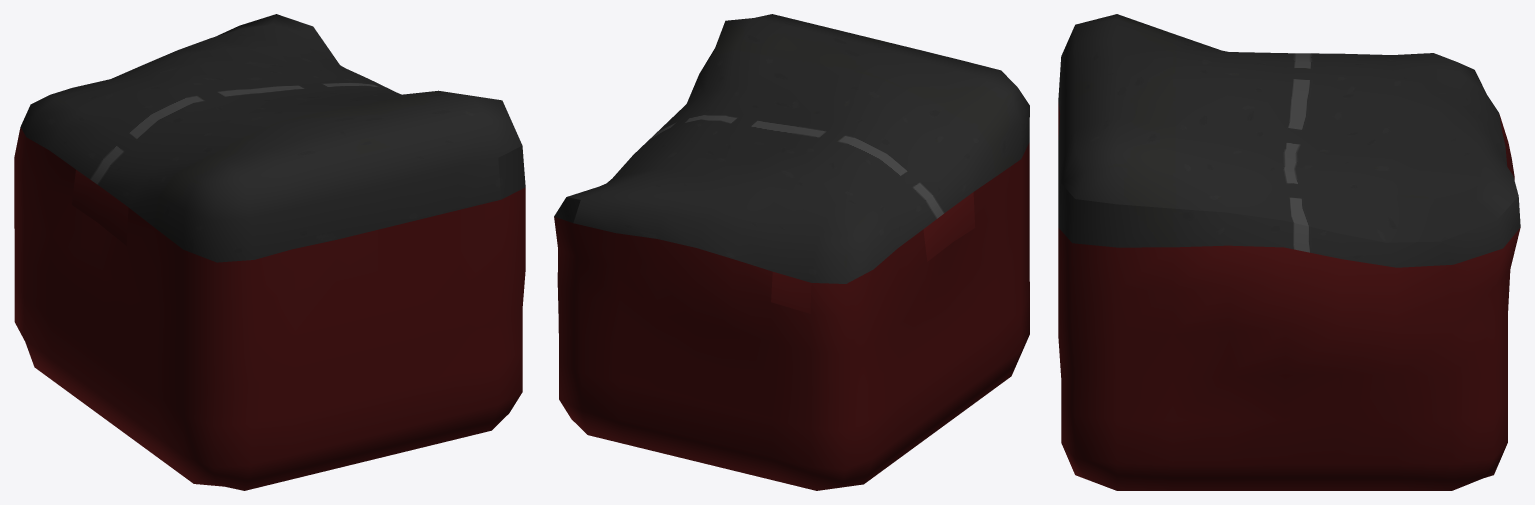
Rendered from RuinedGround_Block_06.fbx.
The picture shows the model from 3 angles, left to right: view 1: azimuth 30°, elevation 25°; view 2: azimuth 150°, elevation 25°; view 3: azimuth 270°, elevation 25°; orthographic projection. The views are drawn at different scales.
Visible parts, largest first — view 1: Box018; view 2: Box018; view 3: Box018.
Part boxes in pixels (<box>): Box018: <box>14,14,525,490</box>; Box018: <box>554,14,1029,490</box>; Box018: <box>1058,14,1520,490</box>.
Bounding box in the file's own units: 21.15 × 18.99 × 23.
